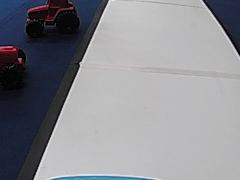Tracktor: (24, 0, 81, 36), (0, 42, 27, 89)
